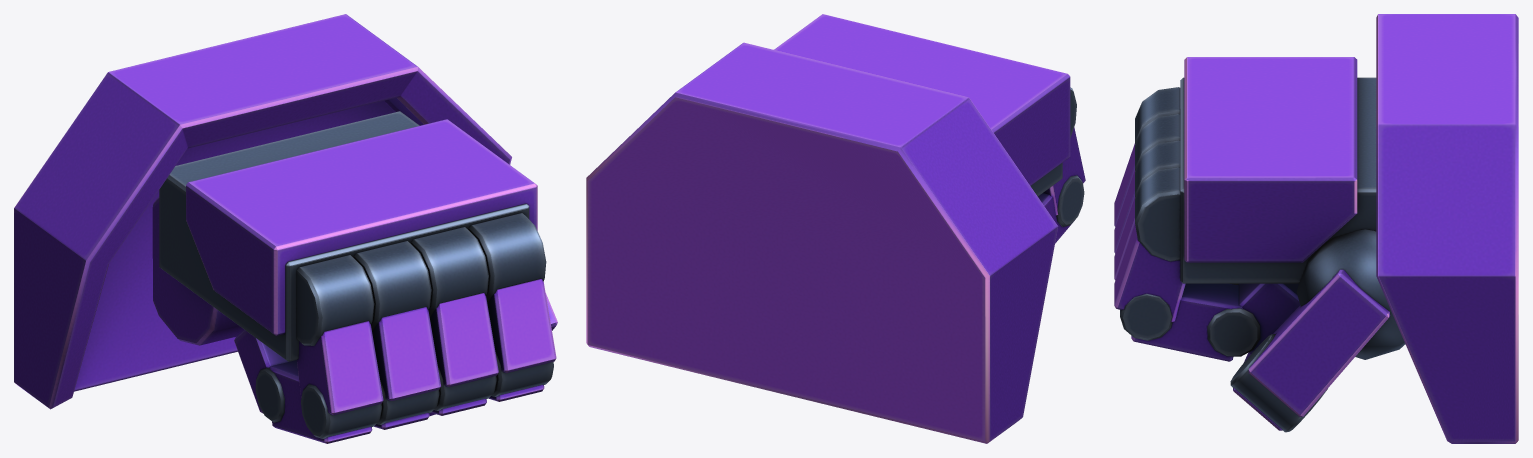
The model's file is front_fist_2.fbx.
The picture shows the model from 3 angles, left to right: view 1: azimuth 30°, elevation 25°; view 2: azimuth 150°, elevation 25°; view 3: azimuth 270°, elevation 25°; orthographic projection. The views are drawn at different scales.
Visible parts, largest first — view 1: Cube.013, Cube.005; view 2: Cube.005, Cube.013; view 3: Cube.013, Cube.005.
Boxes of the visible parts, left/top/right/bottom form: Cube.013: left=152, top=111, right=557, bottom=443; Cube.005: left=14, top=14, right=511, bottom=409; Cube.005: left=586, top=42, right=1058, bottom=443; Cube.013: left=774, top=14, right=1085, bottom=243; Cube.013: left=1114, top=57, right=1405, bottom=432; Cube.005: left=1376, top=14, right=1518, bottom=443.
Bounding box in the file's own units: 124 × 87.02 × 107.
